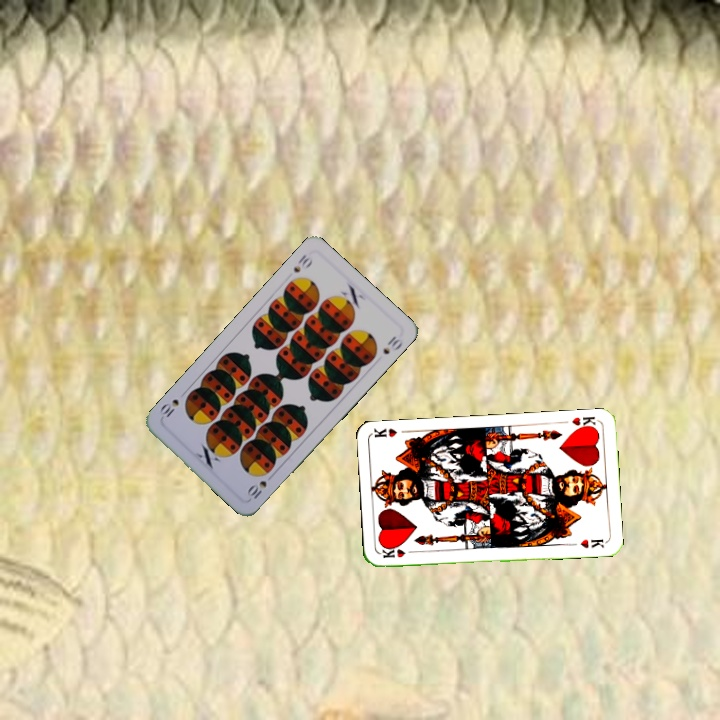HK: (378, 544, 418, 561), (568, 412, 598, 433)
S10: (243, 476, 269, 503), (289, 250, 316, 275)
